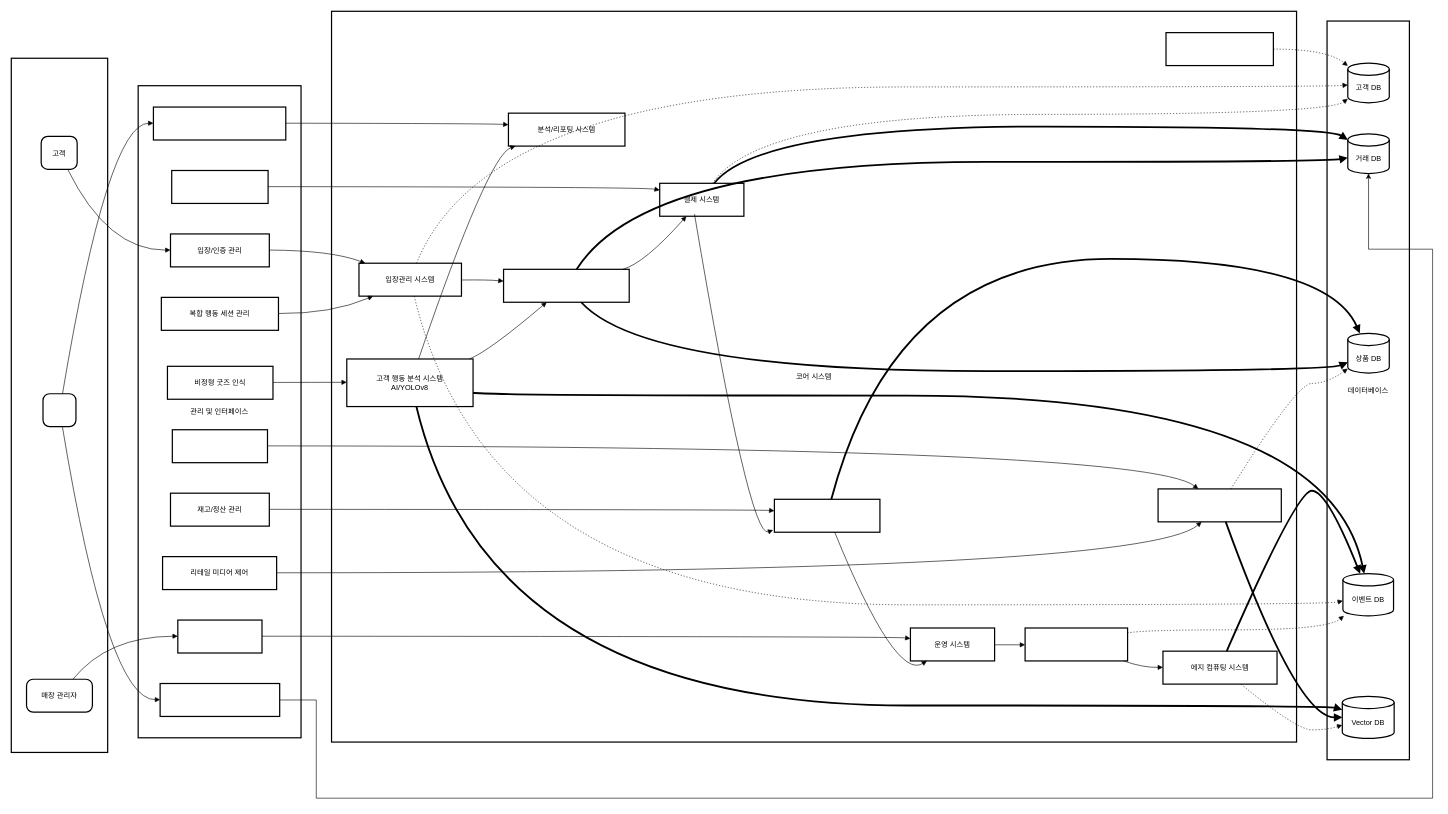
This 1448x814 diagram has some shape labels left out. The shapes that lost their labels are listed below. From the top down, each one's box as (x1, y1, x2, y2) in pixels, then its label:
(1165, 32, 1274, 66): 보안/인증 시스템
(152, 106, 286, 140): 팬덤 인사이트 대시보드
(171, 170, 268, 204): 자동 결제 처리
(503, 268, 630, 303): 세션/장바구니 시스템
(42, 393, 76, 427): K사
(171, 429, 268, 463): IP 콘텐츠 CMS
(773, 498, 880, 533): 재고 알림 시스템
(1157, 488, 1282, 522): 리테일 미디어 시스템
(177, 619, 262, 653): 운영자 포털
(1024, 627, 1128, 661): 매장관리 시스템
(159, 683, 280, 717): 로그/감사 이력 관리
